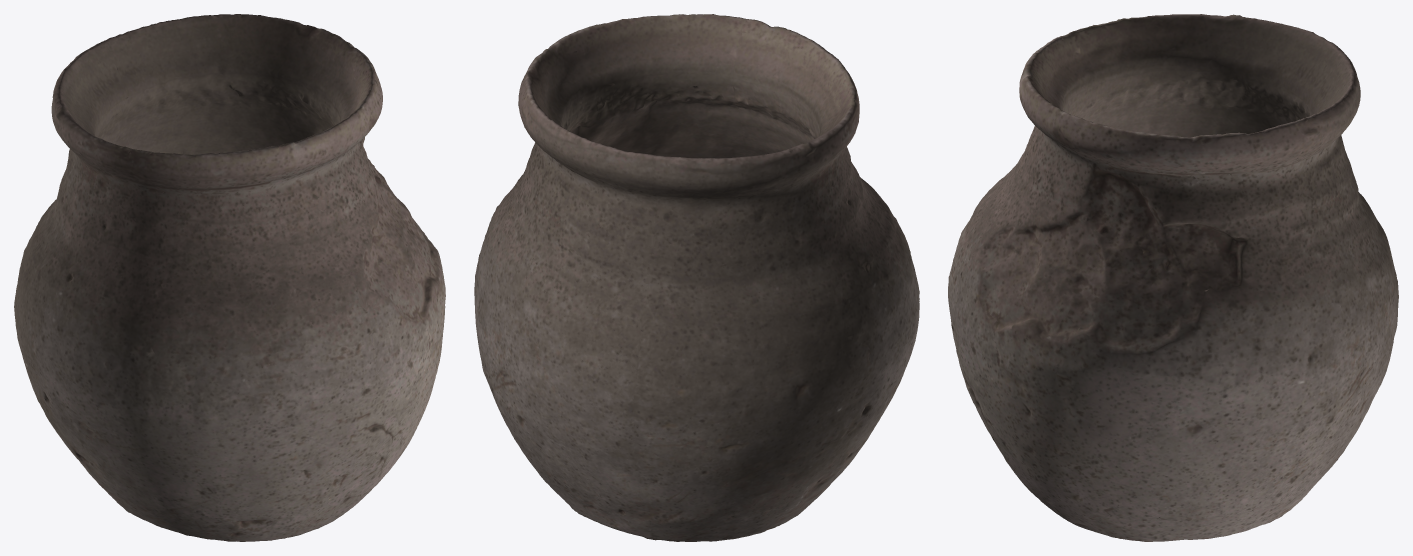
Rendered from pot.obj.
The picture shows the model from 3 angles, left to right: view 1: azimuth 30°, elevation 25°; view 2: azimuth 150°, elevation 25°; view 3: azimuth 270°, elevation 25°; orthographic projection. The views are drawn at different scales.
Visible parts, largest first — view 1: obj1; view 2: obj1; view 3: obj1.
Part boxes in pixels (x1=…): obj1: x1=14, y1=14, x2=445, y2=541; obj1: x1=474, y1=14, x2=919, y2=541; obj1: x1=948, y1=14, x2=1398, y2=541.
Size of the model in its own units: 117 by 125 by 119.
Materials: 1 (1 with a texture image).
